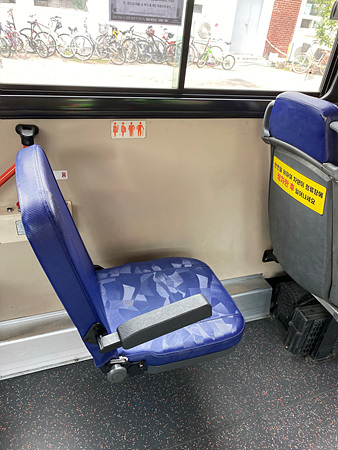seat: (18, 145, 244, 379)
